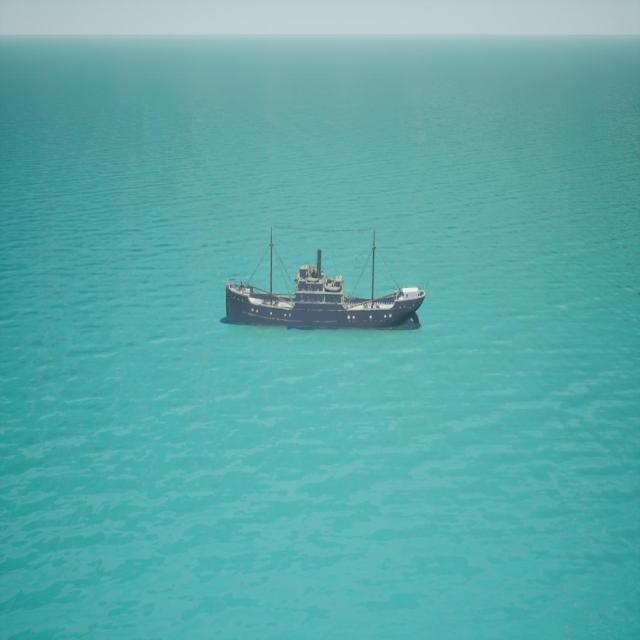fishing ship: (226, 232, 427, 331)
